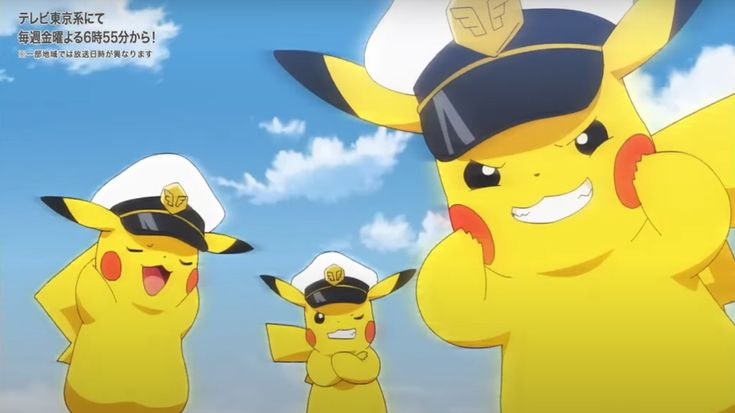Pikachu: (277, 30, 735, 413), (33, 161, 251, 413), (258, 255, 414, 413)
